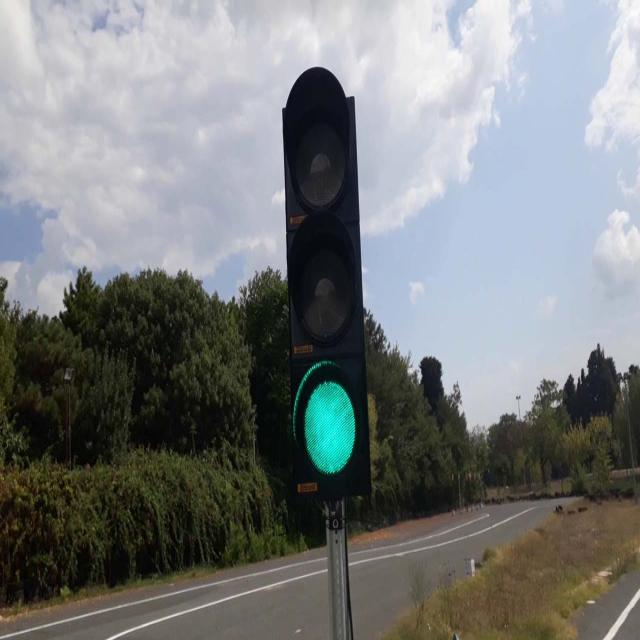yesil: (288, 75, 366, 490)
